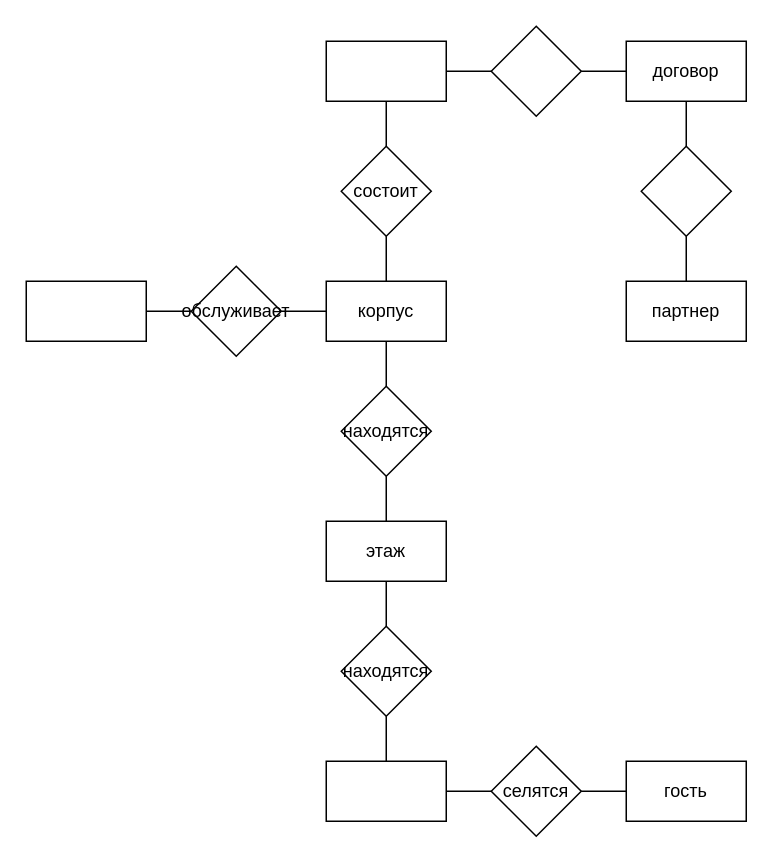
This 773x863 diagram has some shape labels left out. The box of each missing label's shape, as (x1, y1, x2, y2) in pixels:
заключает: (490, 25, 581, 116)
камната: (325, 760, 446, 821)
коплекс: (325, 40, 446, 101)
персонал: (25, 280, 146, 341)
участвует: (640, 145, 731, 236)
